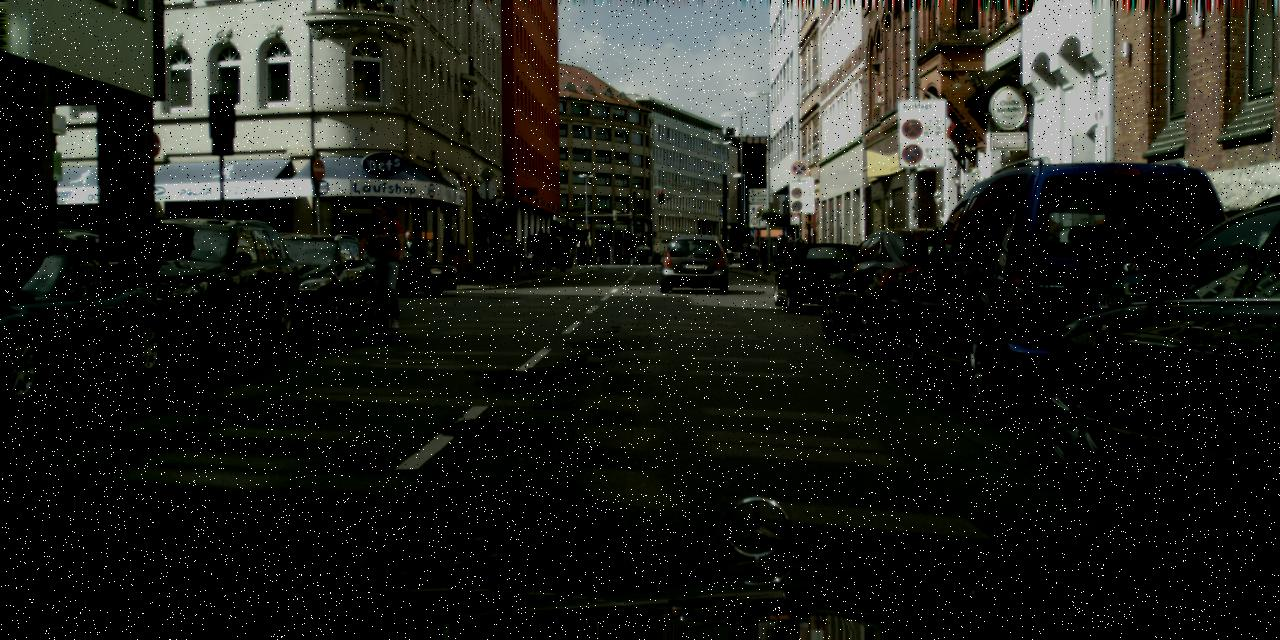ped: (355, 200, 404, 320), (398, 230, 420, 285), (511, 240, 526, 278), (773, 234, 788, 269), (759, 237, 773, 272), (784, 234, 797, 266), (556, 243, 566, 271), (544, 243, 554, 271)
